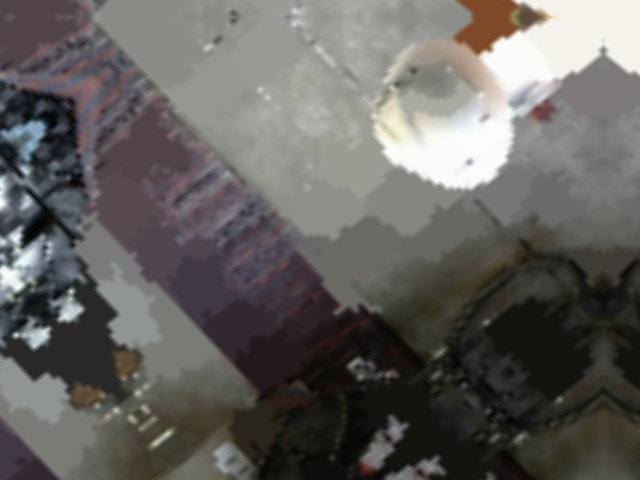eight: (362, 61, 421, 111)
